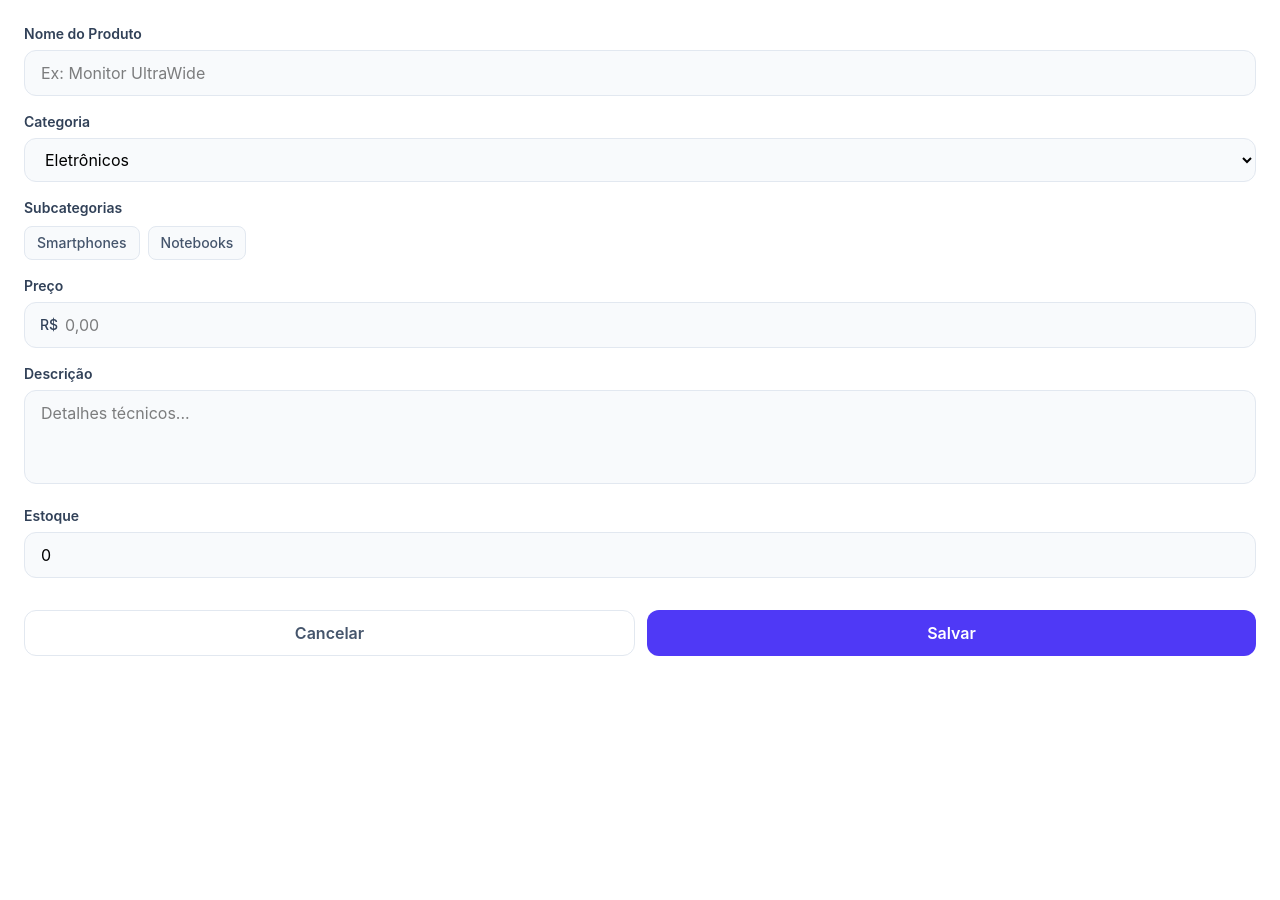
Test case: ProductForm › categoria › deve limpar subcategorias ao trocar categoria
Select "Roupas" in the dropdown named "Categoria" at (640, 160), box [24,138,1256,182]
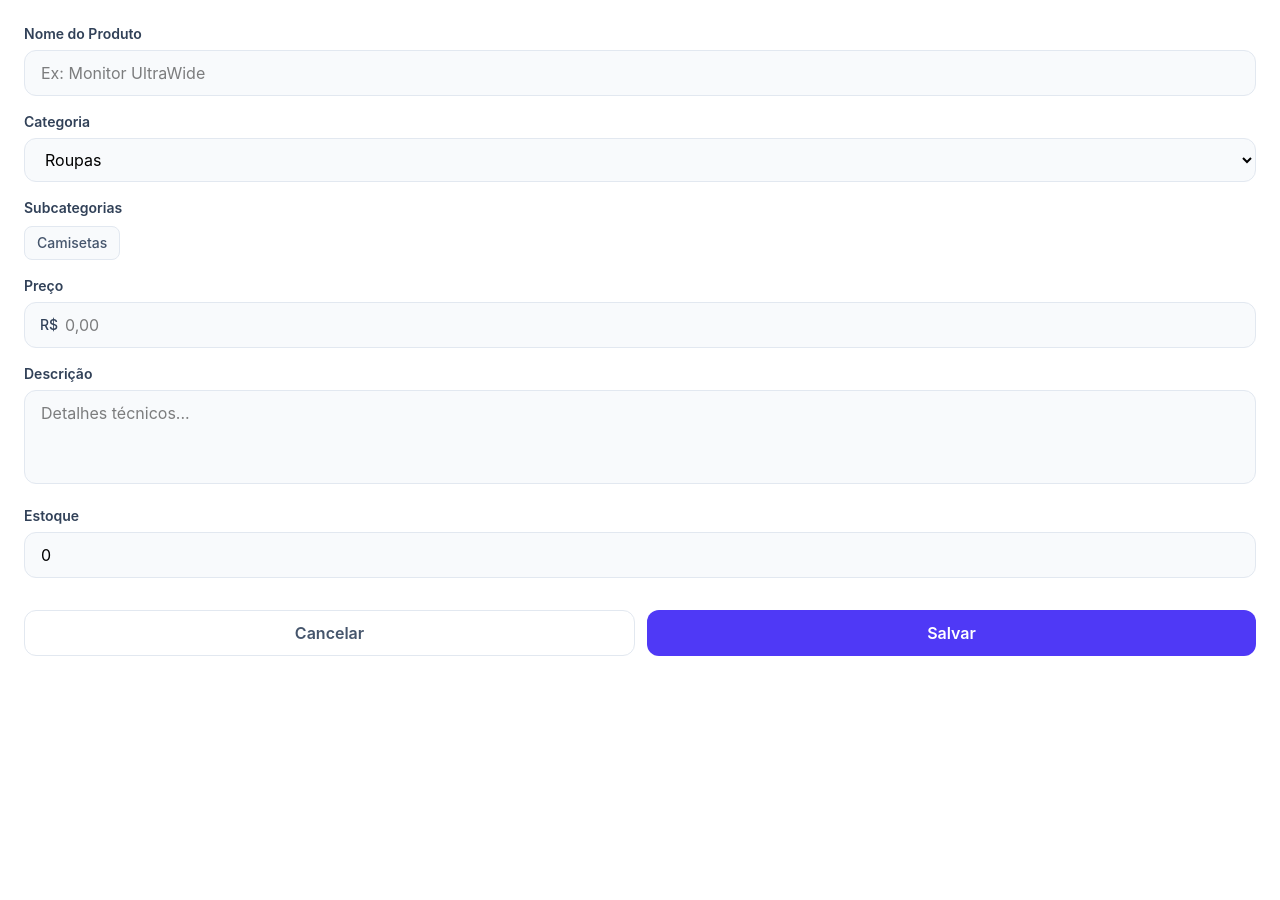
Now the button "Camisetas" is shown, box [24,226,120,260]
